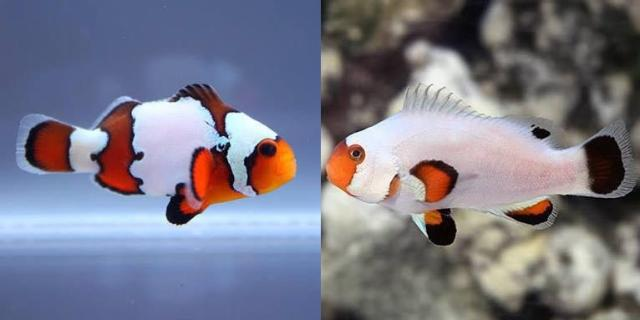Mulut: (272, 140, 312, 190), (320, 146, 350, 202)
Sirip Anal: (496, 190, 566, 240), (88, 165, 150, 208)
Sirip Dada: (395, 143, 467, 209), (172, 137, 218, 213)
Sirip Ekor: (570, 105, 640, 209), (5, 100, 81, 194)
Sirip Perut: (151, 186, 211, 238), (399, 201, 459, 251)
Sirip Punggung: (389, 69, 571, 151), (89, 69, 231, 131)
